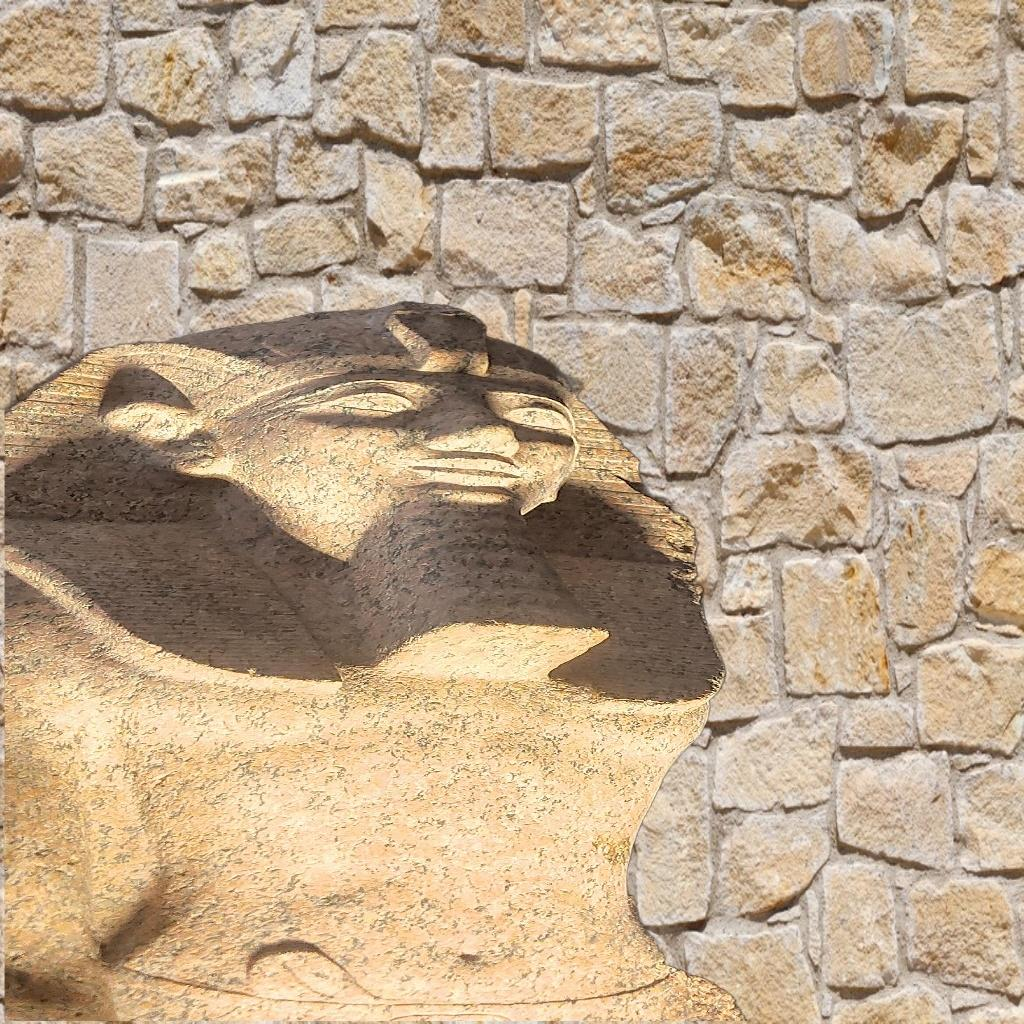Standing Statue of Thutmose III: (4, 299, 748, 1021)
